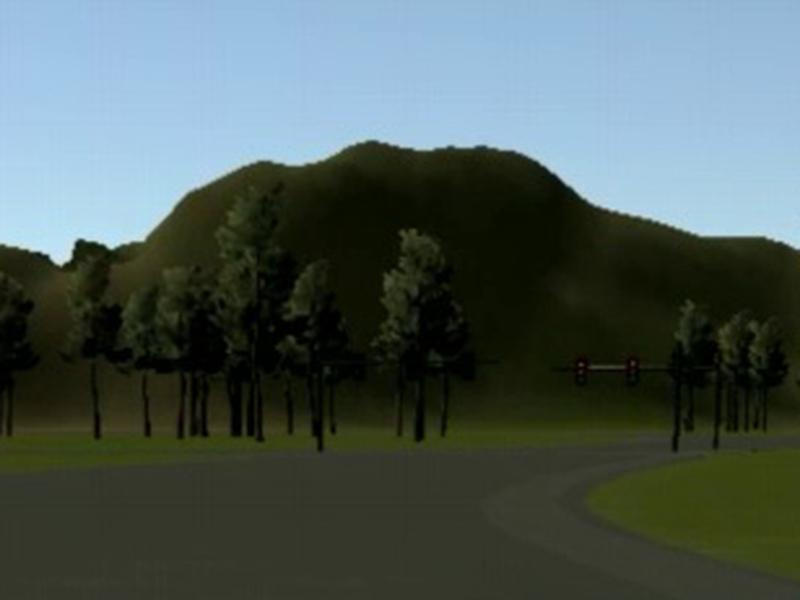Red: (577, 357, 588, 387), (627, 356, 637, 387)
